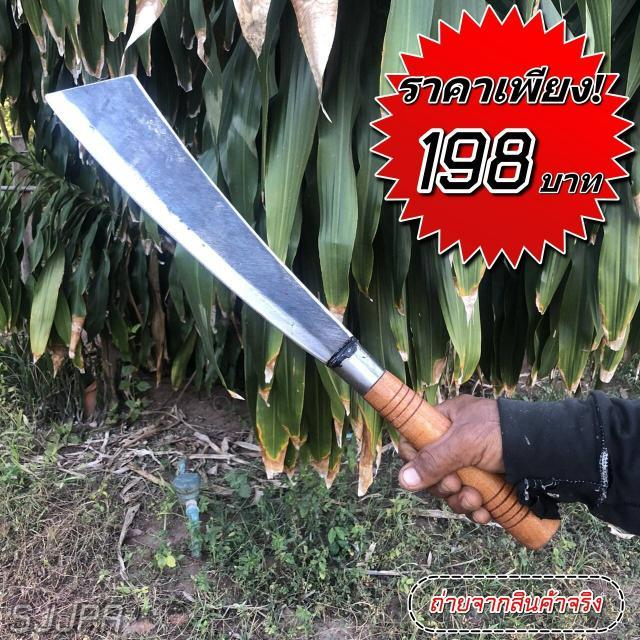eto: (38, 69, 640, 554)
